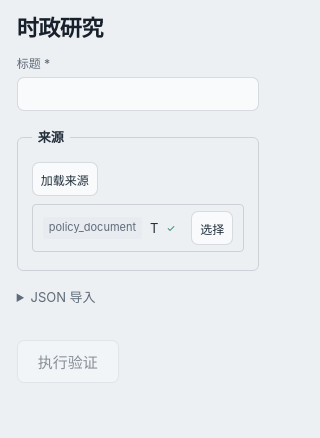
Test case: lifecycle › research failure with errors → error alert
Click the button "选择" at (212, 228), box [191,211,233,245]
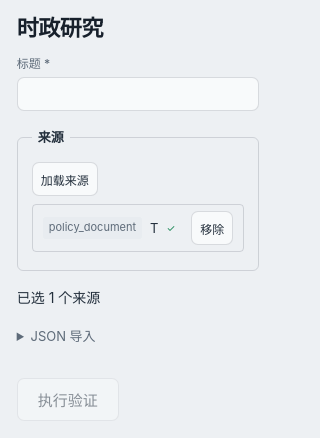
Type "T" into the field with id "ca-title" at (138, 94), box [17,77,259,111]
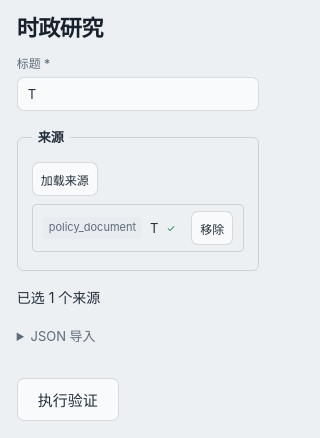
Click the button "执行验证" at (68, 400), box [17,378,119,421]
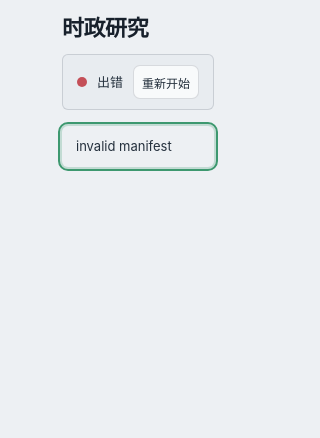
Now the message "invalid manifest" is shown, box [62,126,214,167]
